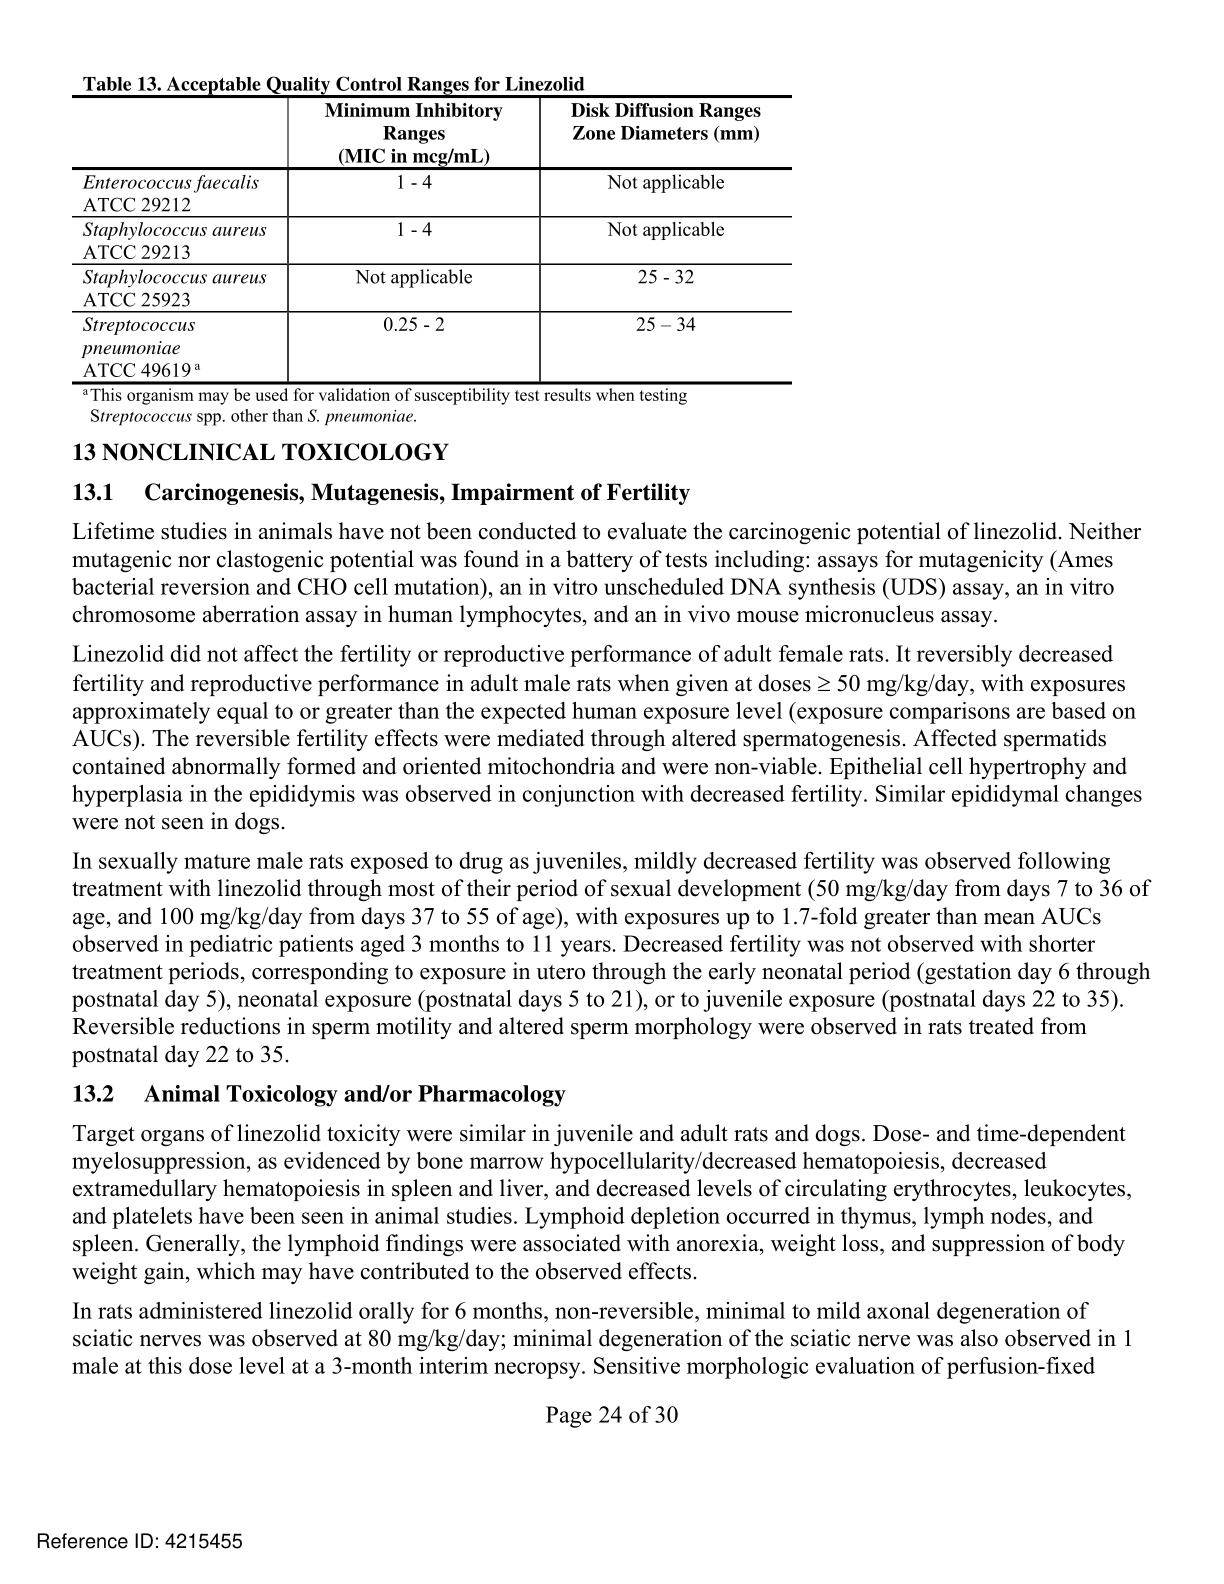partial_lined: (69, 93, 797, 386)
